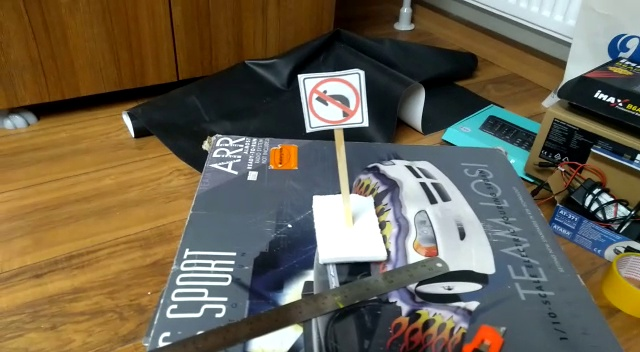sola_donulmez: (304, 74, 366, 125)
